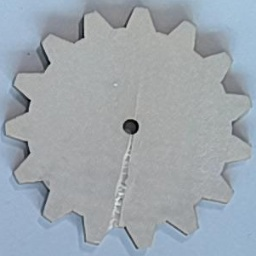Crack: (105, 134, 136, 230)
